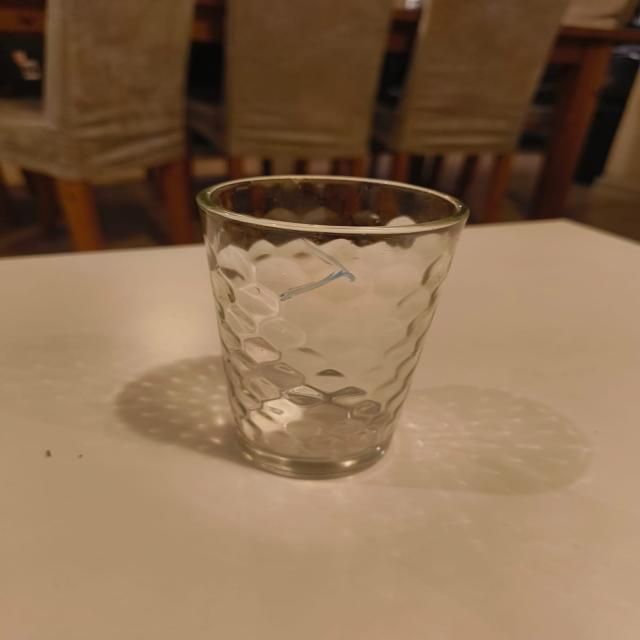mazak: (276, 236, 357, 305)
mazak g2: (195, 172, 472, 468)
